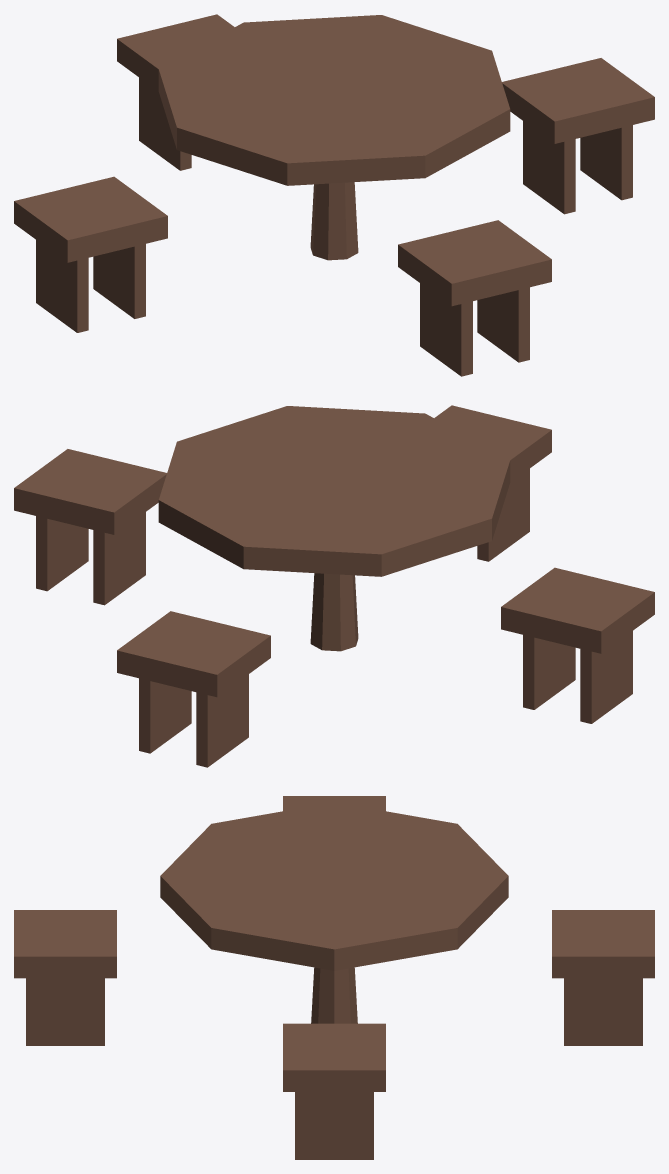
The model's file is dinner.glb.
3 renders of one model, top to bottom at view 1: azimuth 30°, elevation 25°; view 2: azimuth 150°, elevation 25°; view 3: azimuth 270°, elevation 25°, orthographic. The views are drawn at different scales.
Parts seen in each view (by area): view 1: DinnerMesh; view 2: DinnerMesh; view 3: DinnerMesh.
Part boxes in pixels (x1,y1,x2,y2): DinnerMesh: (14,14,654,376); DinnerMesh: (14,405,654,767); DinnerMesh: (14,796,654,1159).
Bounding box in the file's own units: 4.1 × 1.08 × 4.05.
Materials: 1 (1 with a texture image).
